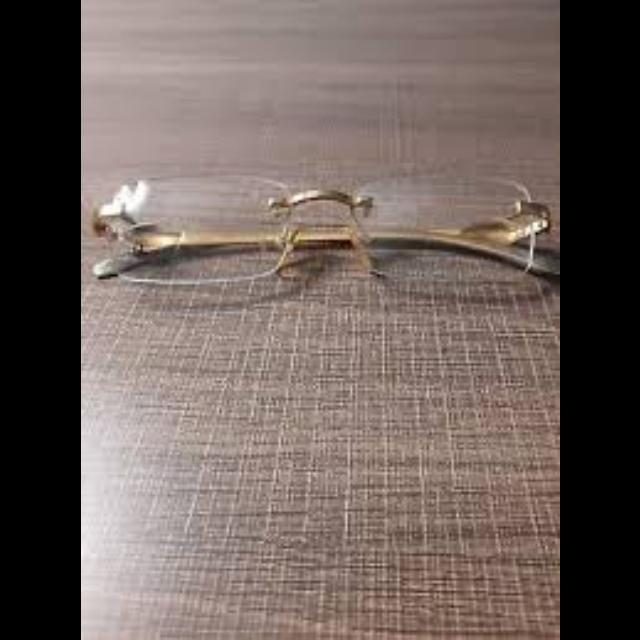glasses: (80, 170, 560, 286)
